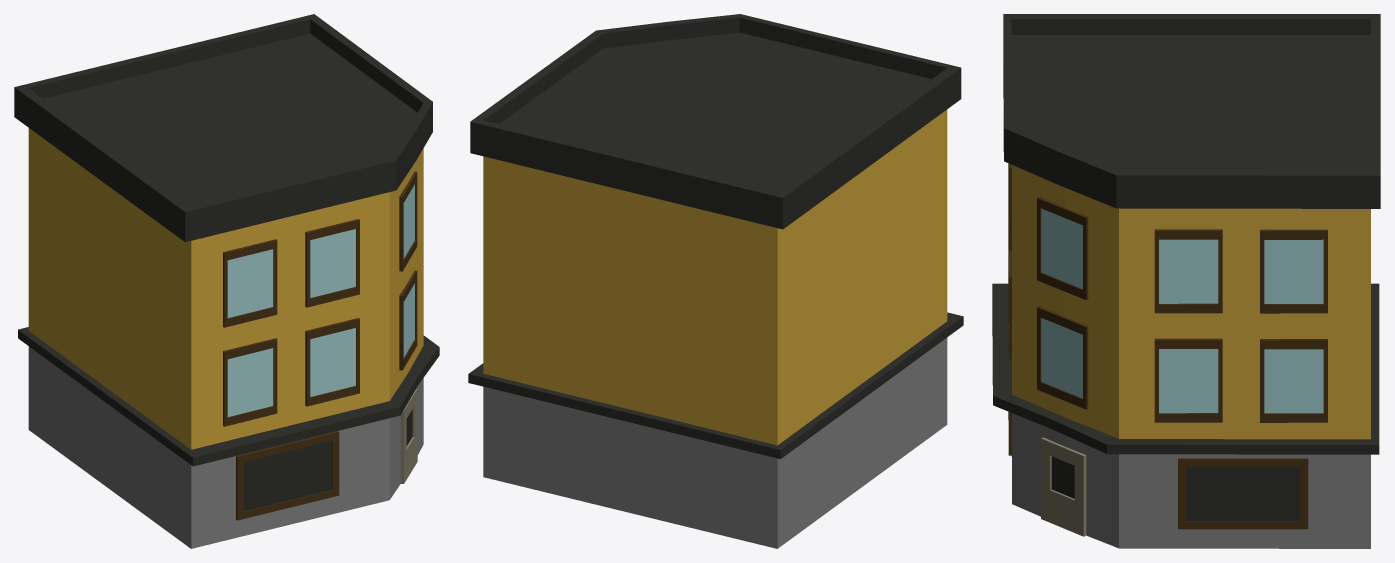
File: apart4.fbx
The picture shows the model from 3 angles, left to right: view 1: azimuth 30°, elevation 25°; view 2: azimuth 150°, elevation 25°; view 3: azimuth 270°, elevation 25°; orthographic projection. The views are drawn at different scales.
Visible parts, largest first — view 1: apart4; view 2: apart4; view 3: apart4.
Boxes of the visible parts, bbox=[...] form: apart4: bbox=[14, 14, 439, 548]; apart4: bbox=[468, 14, 963, 548]; apart4: bbox=[992, 14, 1380, 548].
Size of the model in its own units: 462 by 500 by 466.
